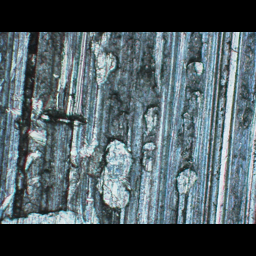d: (94, 137, 134, 213), (178, 58, 206, 163), (88, 38, 118, 88), (175, 167, 200, 197), (139, 137, 159, 173), (139, 106, 161, 135)
